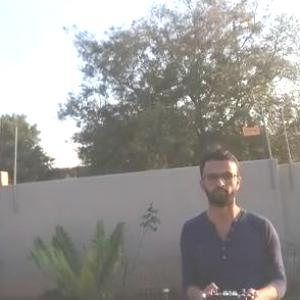follow: (175, 143, 292, 299)
